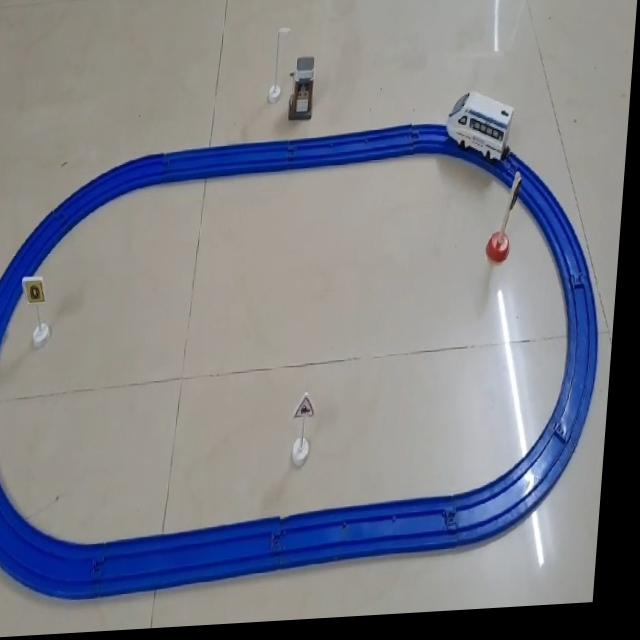bus: (446, 94, 518, 172)
